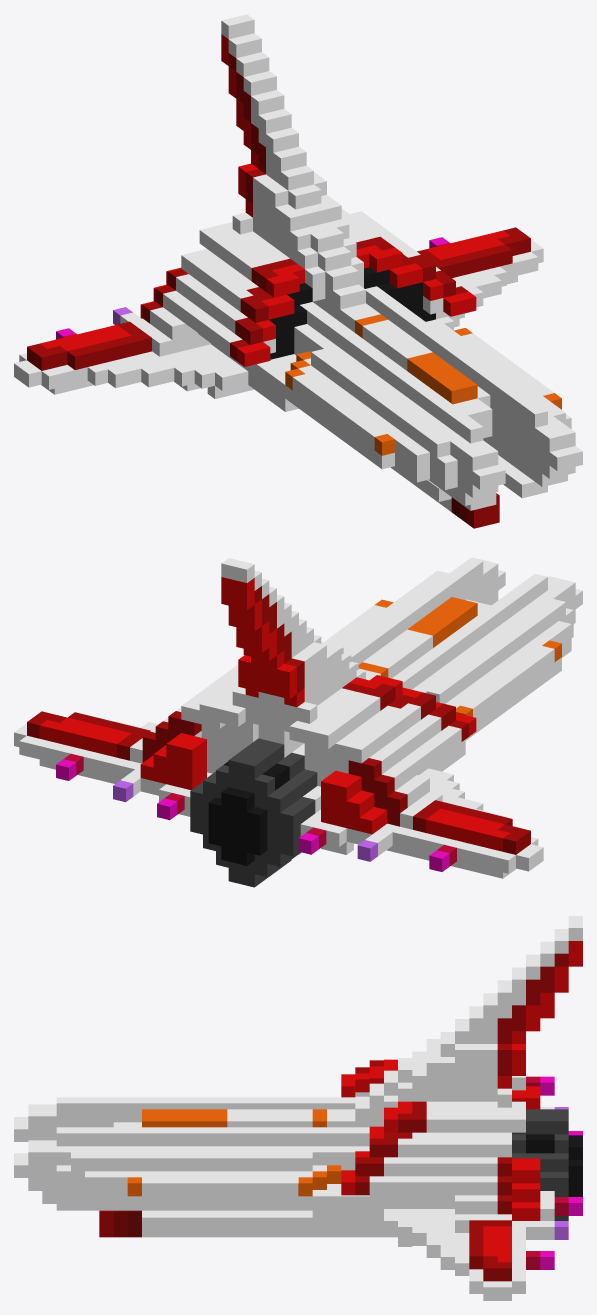
File: Vic_Viper_V1.1_Red.obj
3 renders of one model, top to bottom at view 1: azimuth 30°, elevation 25°; view 2: azimuth 150°, elevation 25°; view 3: azimuth 270°, elevation 25°, orthographic. The views are drawn at different scales.
Size of the model in its own units: 4 by 2.4 by 4.
